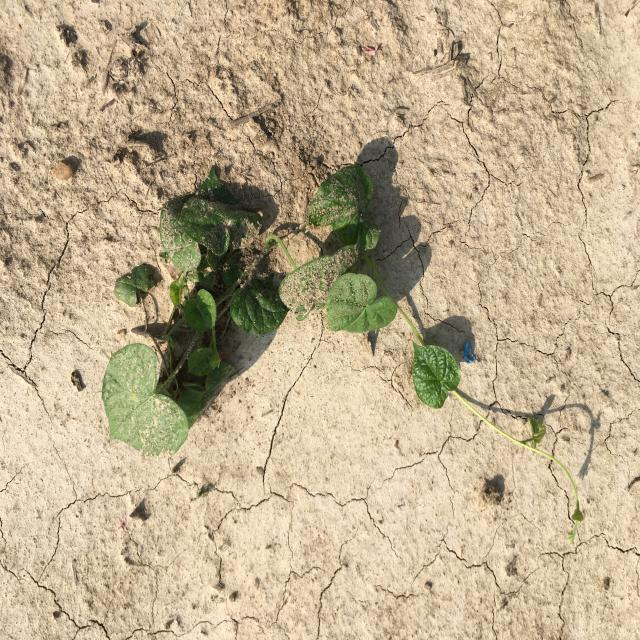MorningGlory: (102, 163, 585, 546)
